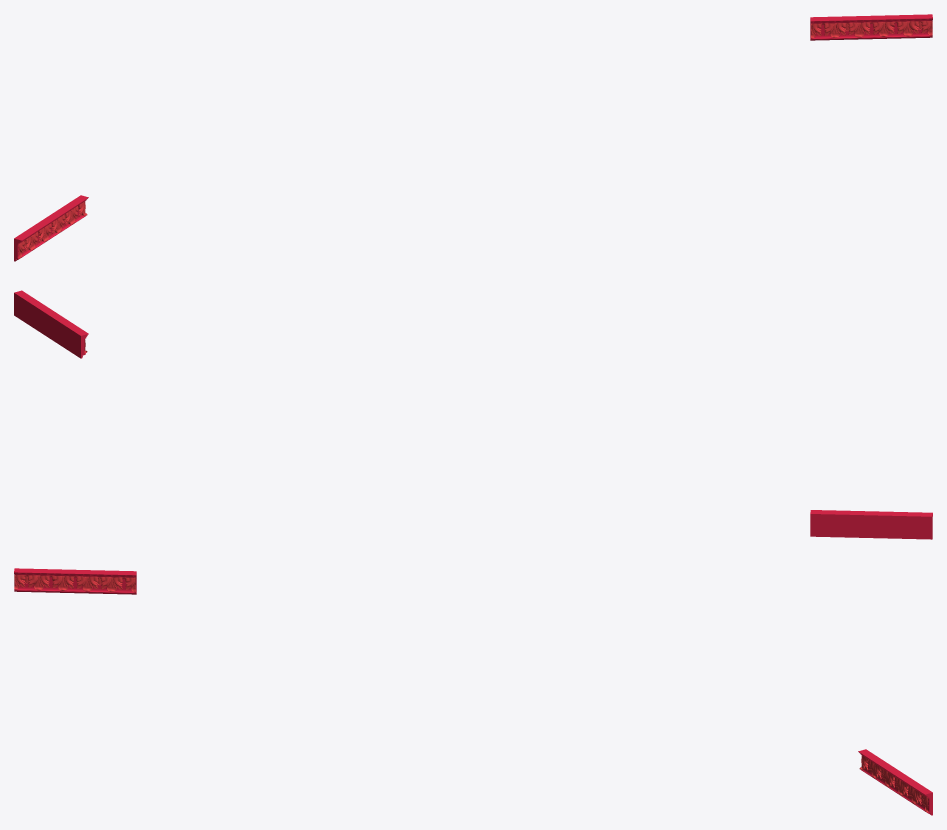
The model's file is Ornament.fbx.
3 views of the same model, one above another, from view 1: azimuth 30°, elevation 25°; view 2: azimuth 150°, elevation 25°; view 3: azimuth 330°, elevation 25° (orthographic).
Parts seen in each view (by area): view 1: polySurface5994; view 2: polySurface5994; view 3: polySurface5994.
Part boxes in pixels (x1,y1,x2,y2): polySurface5994: (14,14,932,261); polySurface5994: (14,290,932,539); polySurface5994: (14,568,932,815).
Bounding box in the file's own units: 6419 × 152 × 386.
